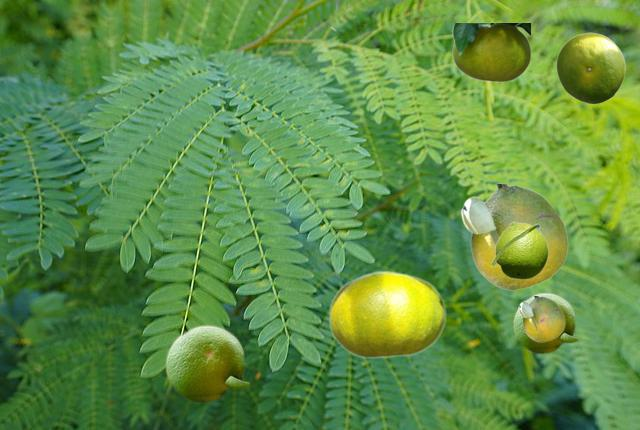dalandan: (460, 184, 567, 289), (328, 270, 445, 358), (164, 323, 250, 402), (556, 32, 624, 103), (452, 23, 529, 81), (512, 291, 579, 353), (490, 221, 548, 279), (518, 296, 564, 341)
